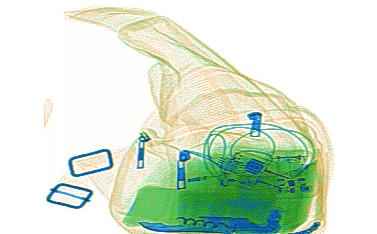knife: (138, 214, 282, 231)
